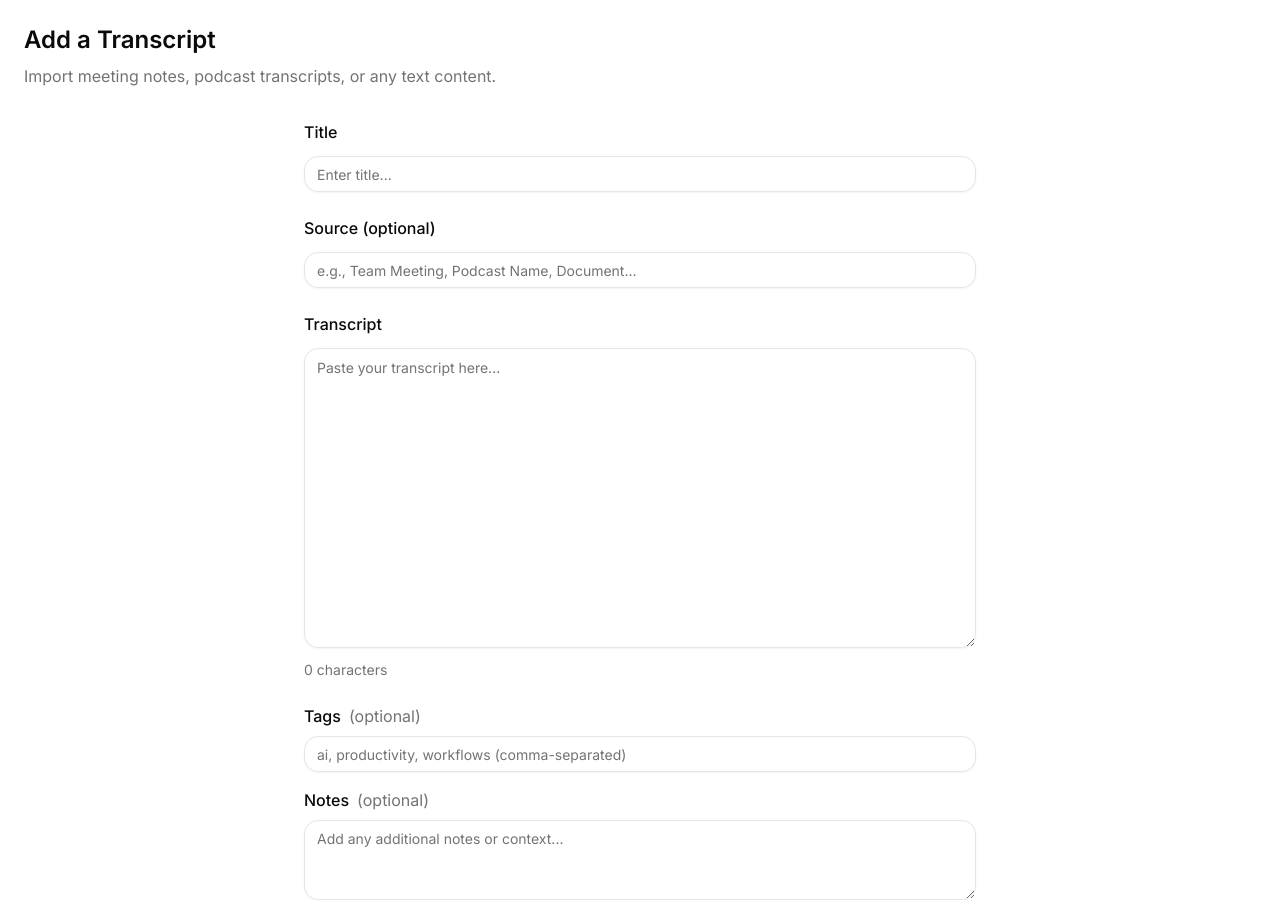
Test: AddTranscriptPage › shows success state after successful submission
Type "Test Meeting" into the field labelled "Title" at [640, 174], box 304,156 -> 976,192
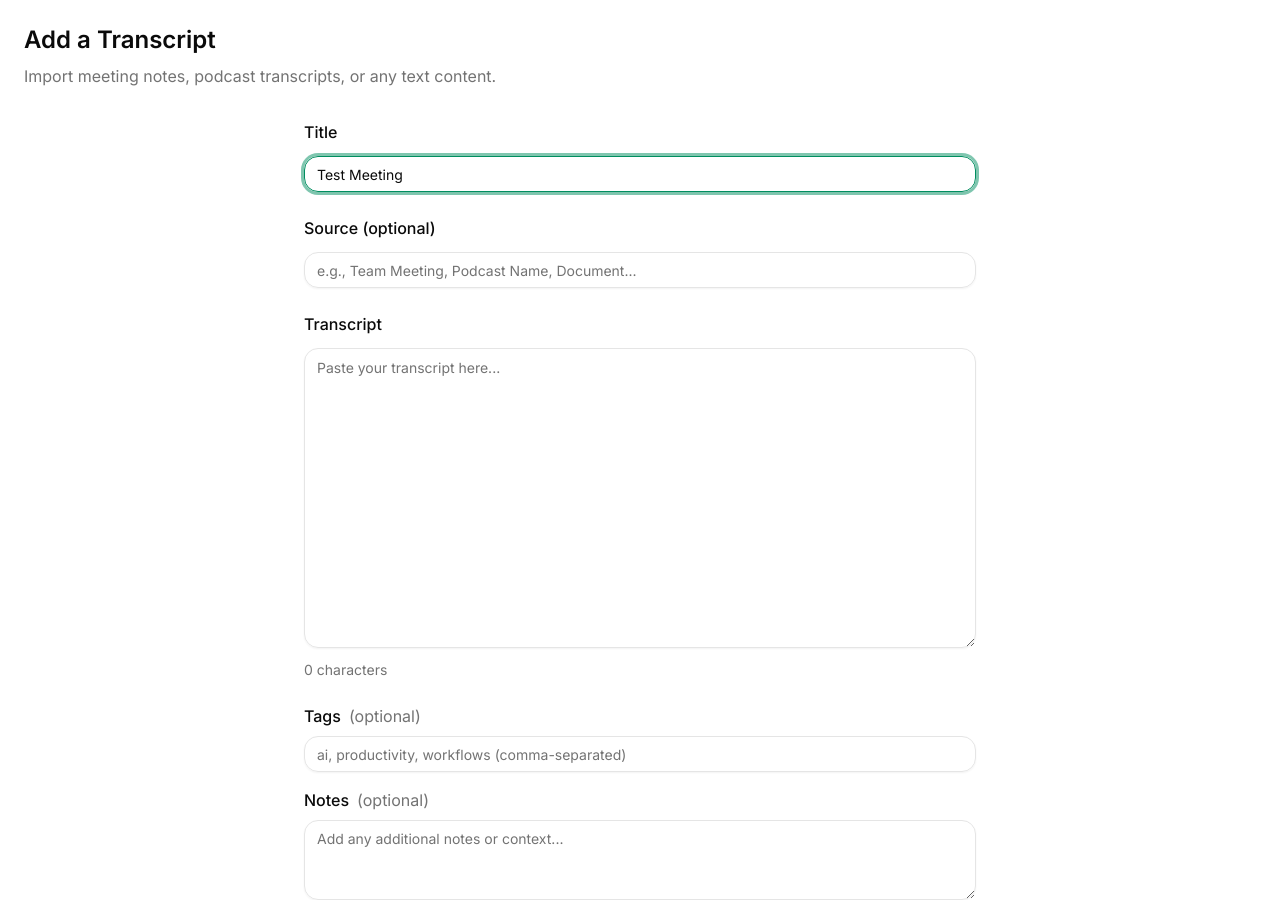
Type "Team Call" into the field labelled "Source (optional)" at [640, 270], box 304,252 -> 976,288
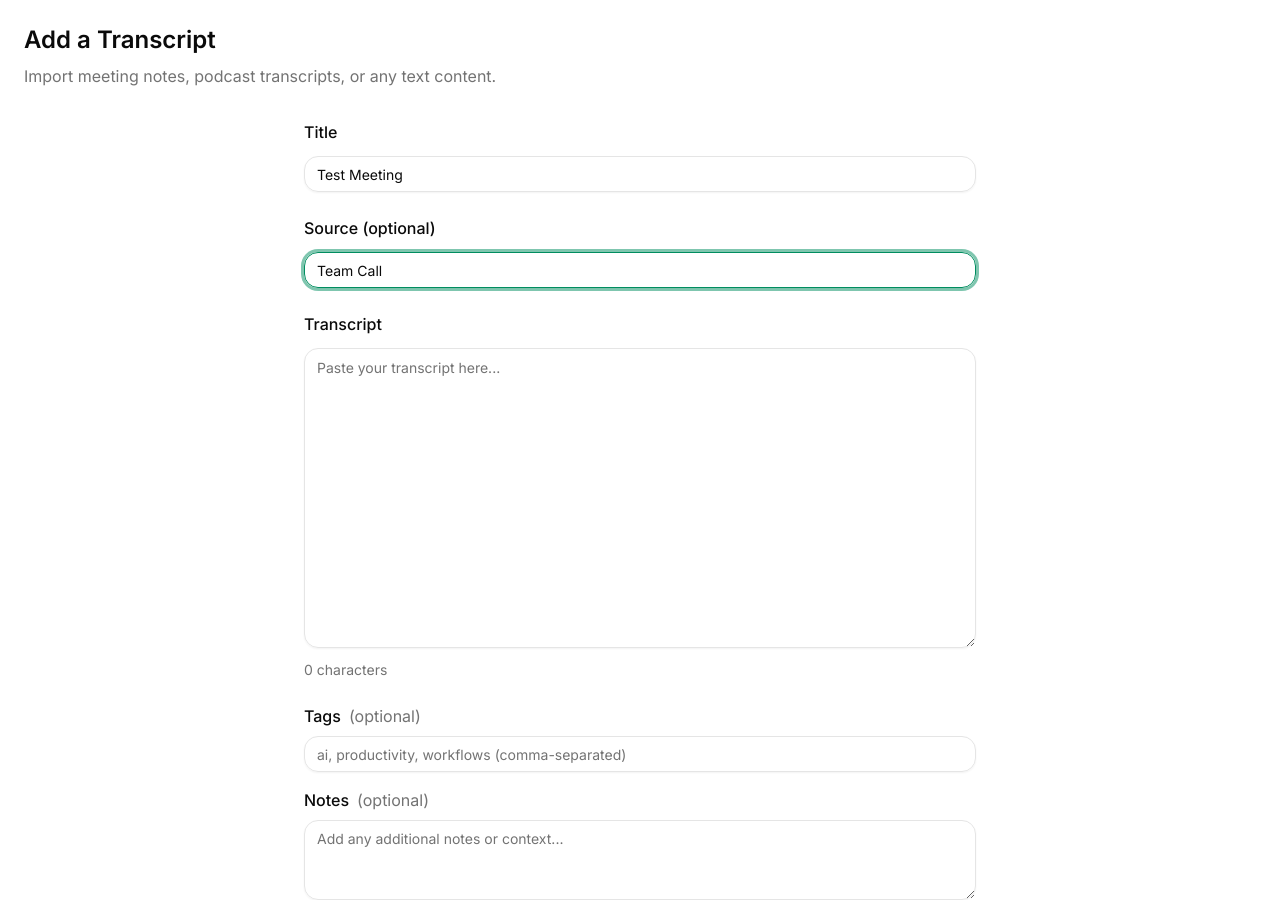
Type "This is the full meeting transcript with sufficient content" into the text box labelled "Transcript" at [640, 498], box 304,348 -> 976,648
(page scrolled)
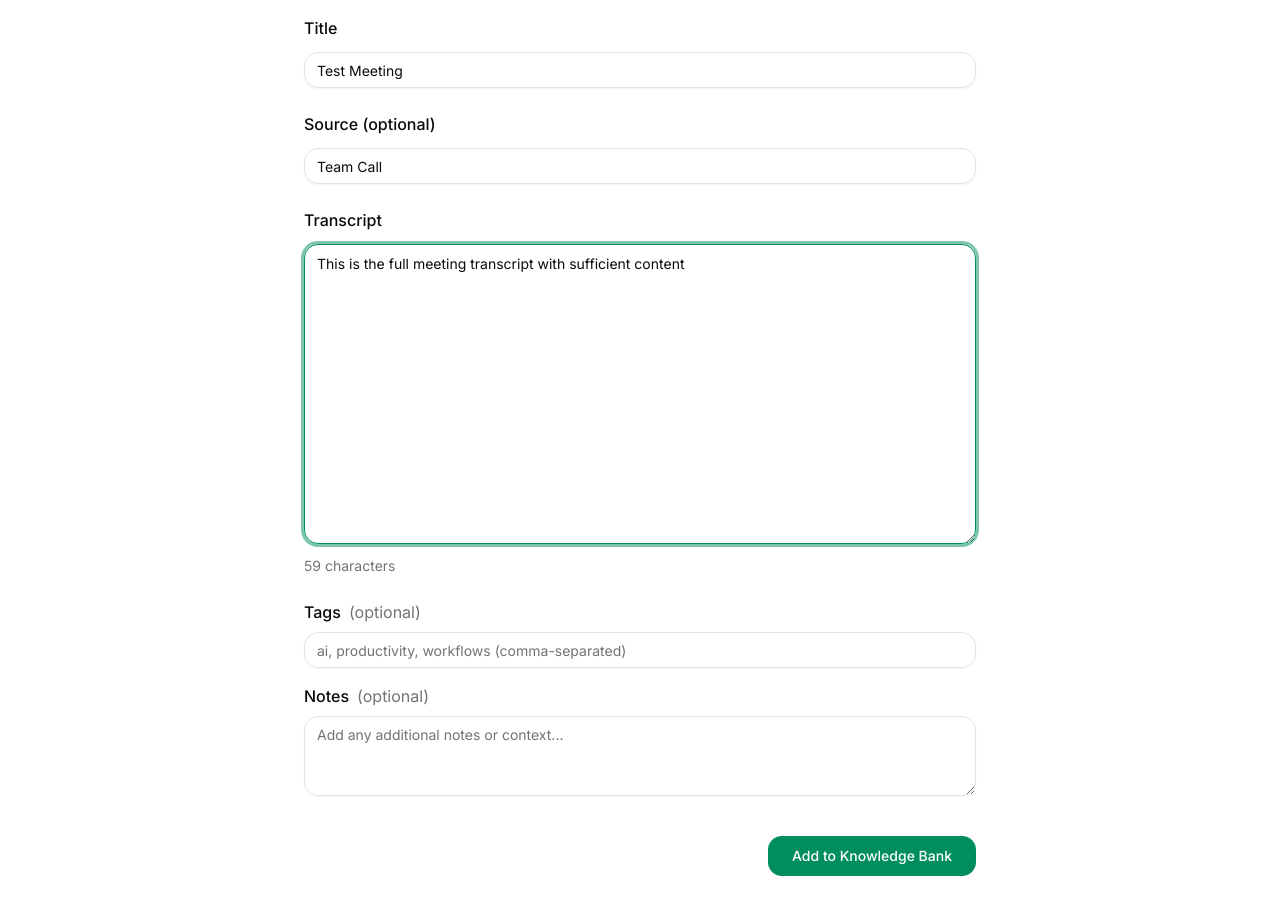
Click the button "Add to Knowledge Bank" at [872, 856], box 768,836 -> 976,876
(page scrolled)
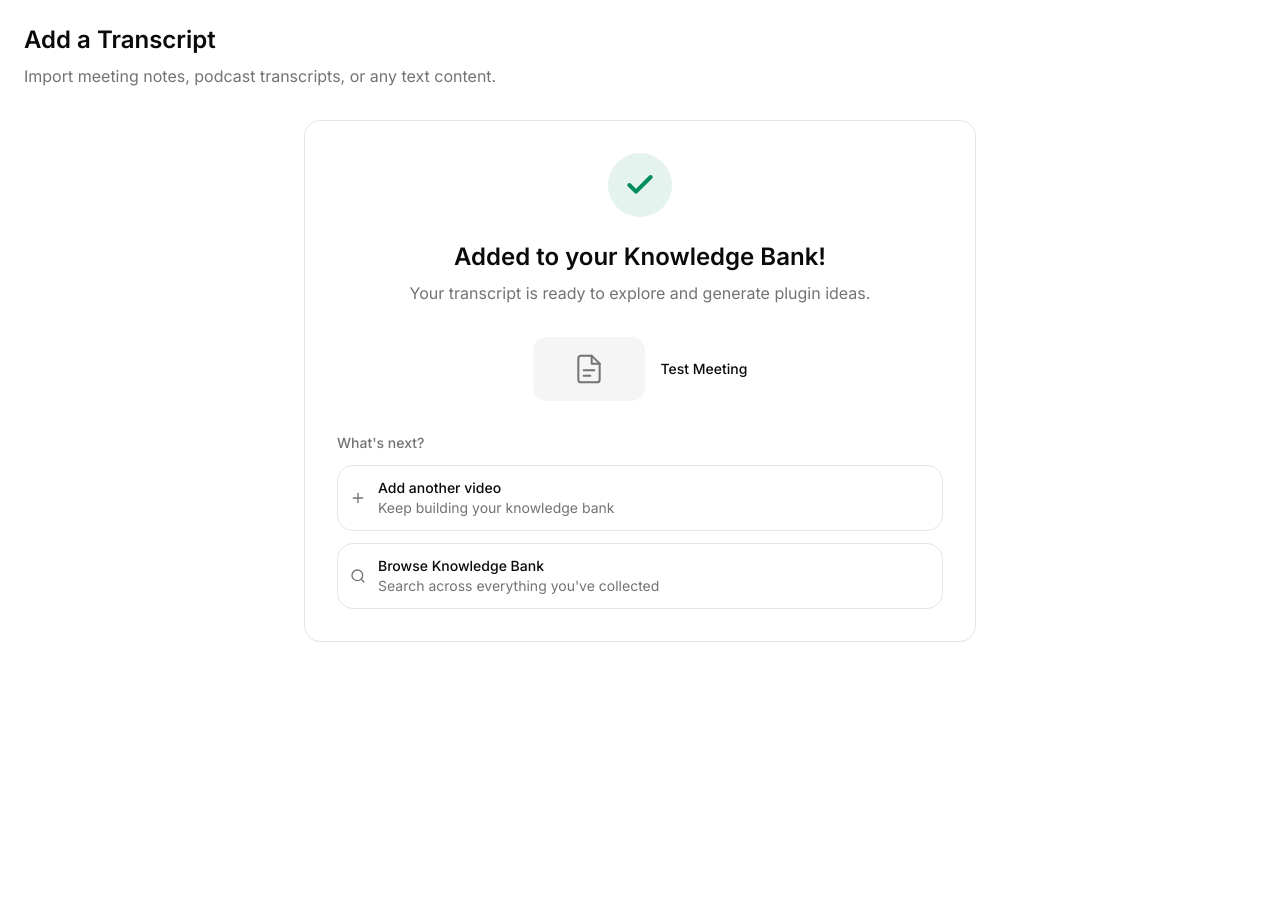
Check: the heading "Added to your Knowledge Bank!" is shown, box 454,242 -> 826,271
